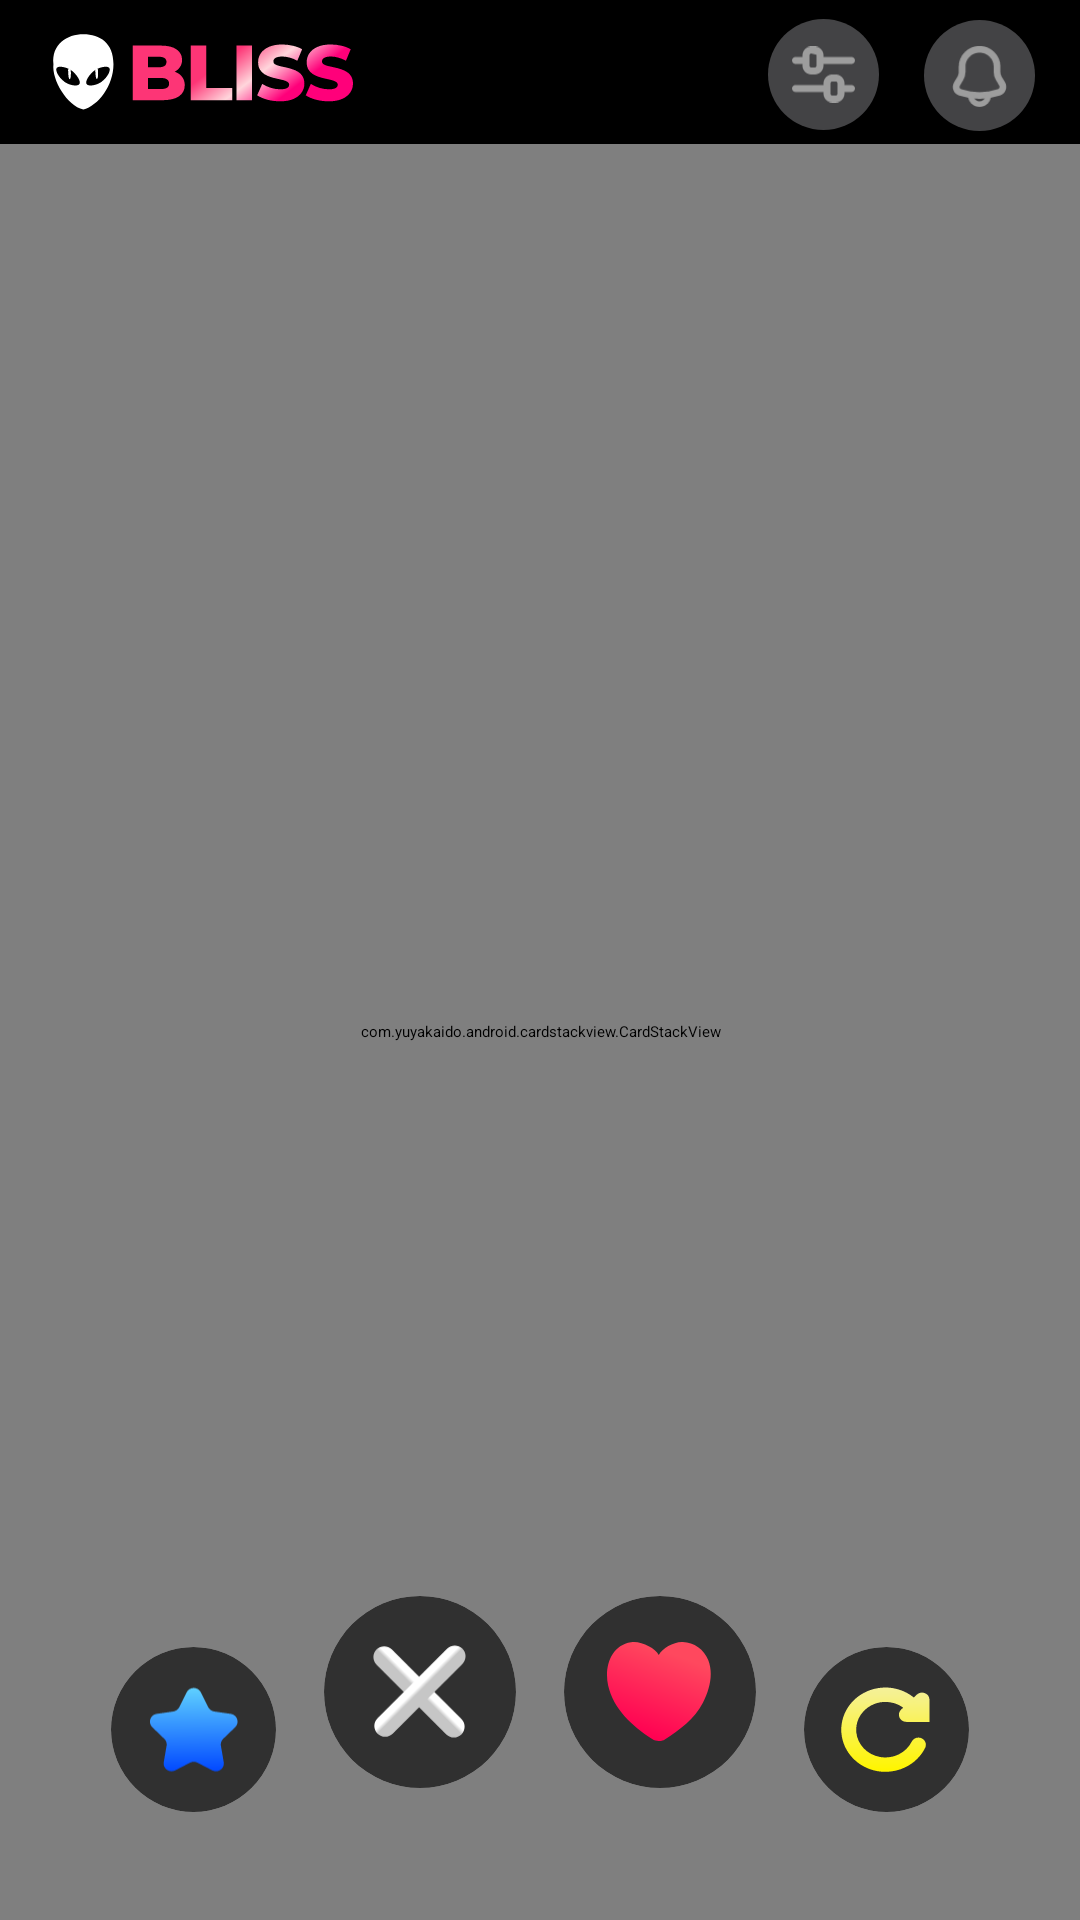

Icon click points for this 1080px×1920px phone screenshot, format (x=x, y=y):
filtering: (x=823, y=74)
like: (x=659, y=1691)
notification: (x=979, y=75)
retry: (x=885, y=1729)
skip: (x=419, y=1691)
star favorite: (x=194, y=1729)
